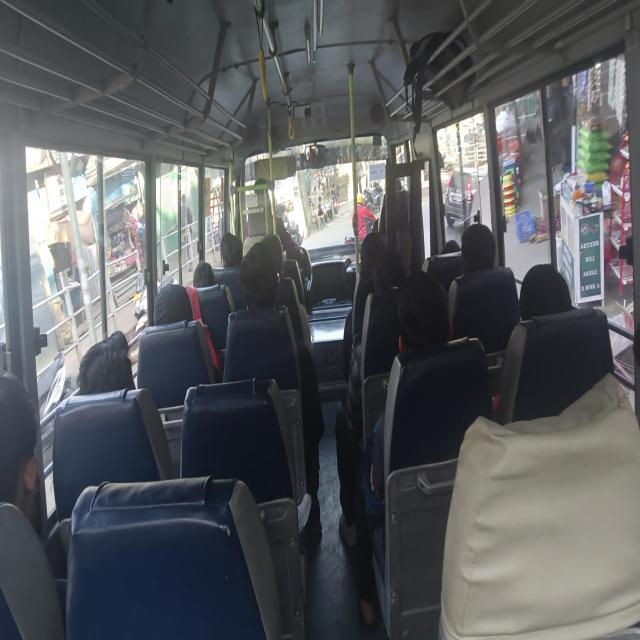person: (438, 371, 639, 638), (355, 270, 452, 626), (223, 238, 324, 540), (336, 248, 406, 547), (0, 374, 66, 638), (447, 222, 520, 354), (342, 231, 386, 377), (0, 374, 39, 522), (75, 330, 136, 395), (518, 262, 572, 322), (352, 192, 377, 240), (220, 232, 242, 268), (193, 261, 215, 287)
